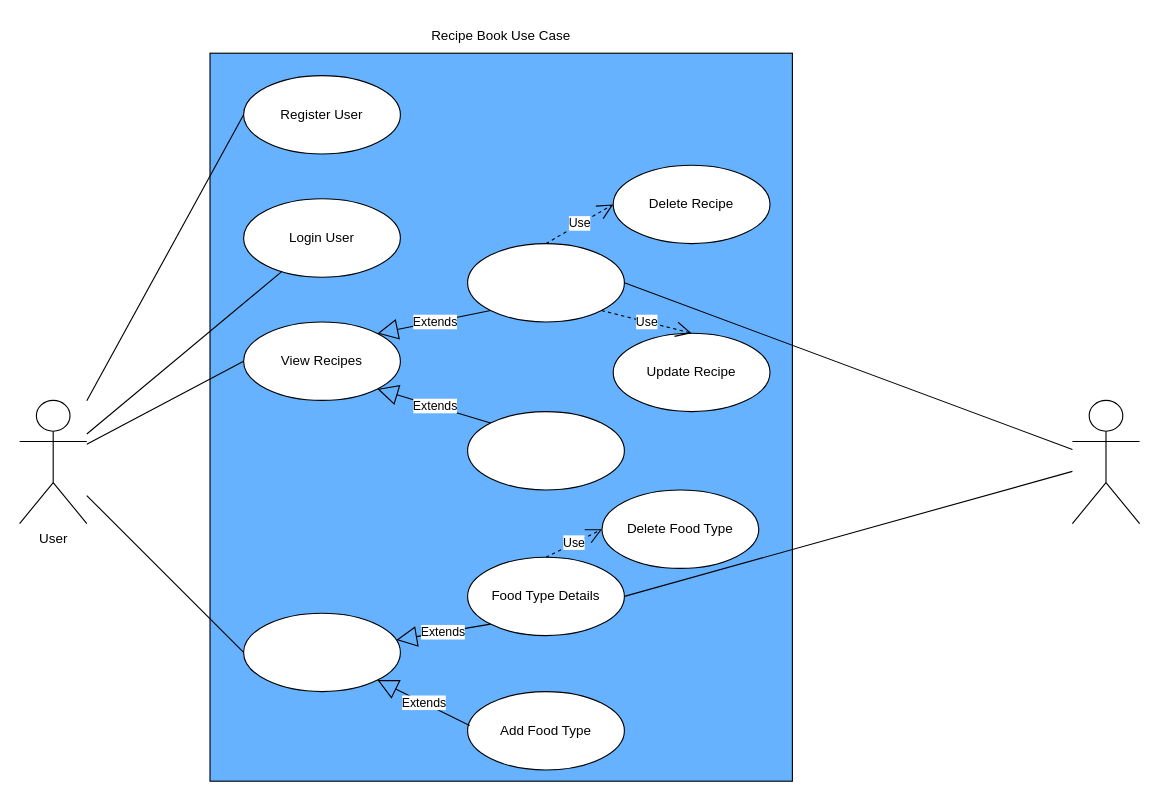
This 1159x801 diagram has some shape labels left out. Here are the shapes that lost their labels. From the top down, the box of each, then its label:
(466, 242, 624, 322): Recipe Details
(466, 410, 624, 490): Add Recipe
(1071, 399, 1140, 524): Admin
(242, 612, 400, 692): View Food Type
